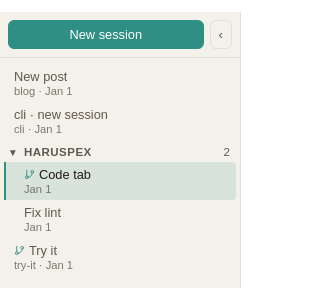
Test: CodeSidebar › lists lone sessions flat and groups a folder that has several
The width and height of the screenshot is (320, 305).
Expected: the text "Fix lint" is shown, top-left (24, 205), bottom-right (61, 220)
Expected: the text with class "meta" shows "blog ·", top-left (14, 85), bottom-right (72, 97)
Click the button "▾ haruspex 2" at (120, 151), box top-left (4, 140), bottom-right (236, 162)
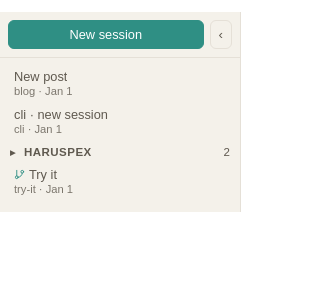
Result: the button "Fix lint" is gone
